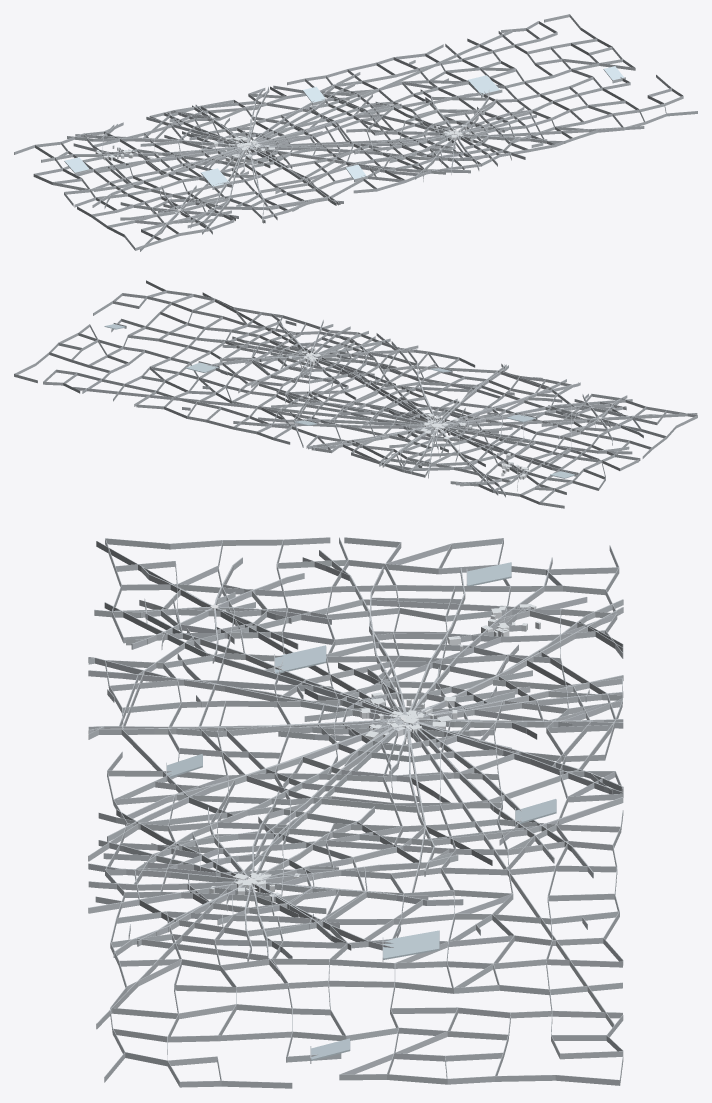
File: DAMAGE_GLASS_FRACTURE_STAGES_01.glb
3 views of the same model, one above another, from view 1: azimuth 30°, elevation 25°; view 2: azimuth 150°, elevation 25°; view 3: azimuth 270°, elevation 25° (orthographic). The views are drawn at different scales.
Parts seen in each view (by area): view 1: GLASS_STAGE3_CRAZED__crack_vein, GLASS_STAGE2_SPIDERWEB__crack_vein, GLASS_STAGE3_CRAZED__glass_shard, GLASS_STAGE1_HAIRLINE__crack_vein, GLASS_STAGE3_CRAZED__frost_patch; view 2: GLASS_STAGE3_CRAZED__crack_vein, GLASS_STAGE2_SPIDERWEB__crack_vein, GLASS_STAGE1_HAIRLINE__crack_vein, GLASS_STAGE3_CRAZED__frost_patch, GLASS_STAGE3_CRAZED__glass_shard; view 3: GLASS_STAGE3_CRAZED__crack_vein, GLASS_STAGE2_SPIDERWEB__crack_vein, GLASS_STAGE3_CRAZED__glass_shard, GLASS_STAGE1_HAIRLINE__crack_vein, GLASS_STAGE3_CRAZED__frost_patch.
Part boxes in pixels (<box>): GLASS_STAGE3_CRAZED__crack_vein: <box>14,14,697,250</box>; GLASS_STAGE2_SPIDERWEB__crack_vein: <box>41,29,644,251</box>; GLASS_STAGE3_CRAZED__glass_shard: <box>64,66,623,186</box>; GLASS_STAGE1_HAIRLINE__crack_vein: <box>185,118,310,174</box>; GLASS_STAGE3_CRAZED__frost_patch: <box>95,124,473,213</box>; GLASS_STAGE3_CRAZED__crack_vein: <box>14,280,697,508</box>; GLASS_STAGE2_SPIDERWEB__crack_vein: <box>73,292,697,495</box>; GLASS_STAGE1_HAIRLINE__crack_vein: <box>381,400,498,452</box>; GLASS_STAGE3_CRAZED__frost_patch: <box>289,347,605,479</box>; GLASS_STAGE3_CRAZED__glass_shard: <box>104,324,575,478</box>; GLASS_STAGE3_CRAZED__crack_vein: <box>88,537,623,1088</box>; GLASS_STAGE2_SPIDERWEB__crack_vein: <box>88,541,623,1029</box>; GLASS_STAGE3_CRAZED__glass_shard: <box>167,562,556,1060</box>; GLASS_STAGE1_HAIRLINE__crack_vein: <box>283,667,537,774</box>; GLASS_STAGE3_CRAZED__frost_patch: <box>205,604,540,902</box>.
Bounding box in the file's own units: 53.71 × 0.7442 × 22.26.
